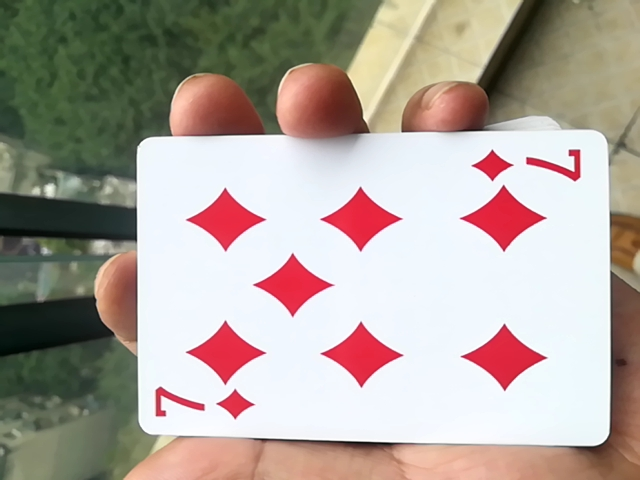fk 7: (122, 128, 610, 456)
